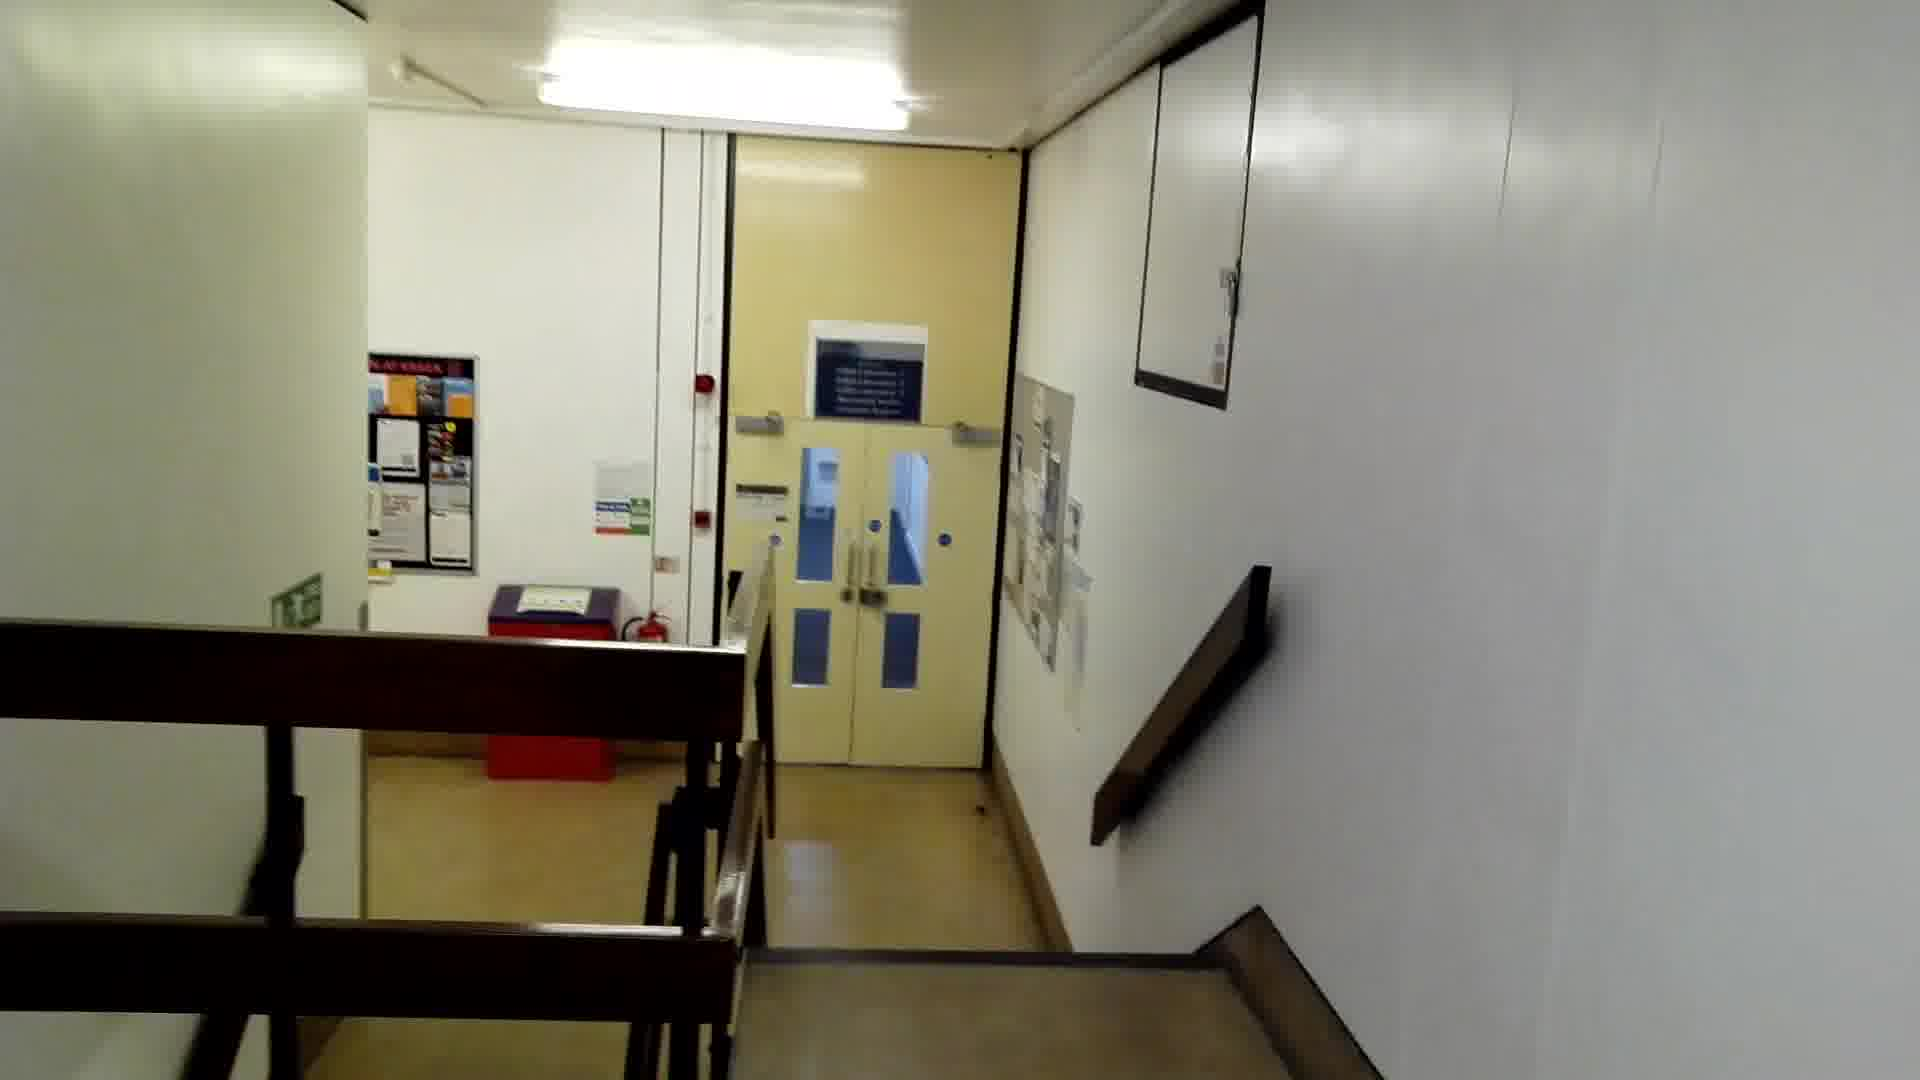Door: (709, 405, 1015, 778)
Stairs: (688, 818, 1273, 1026)
